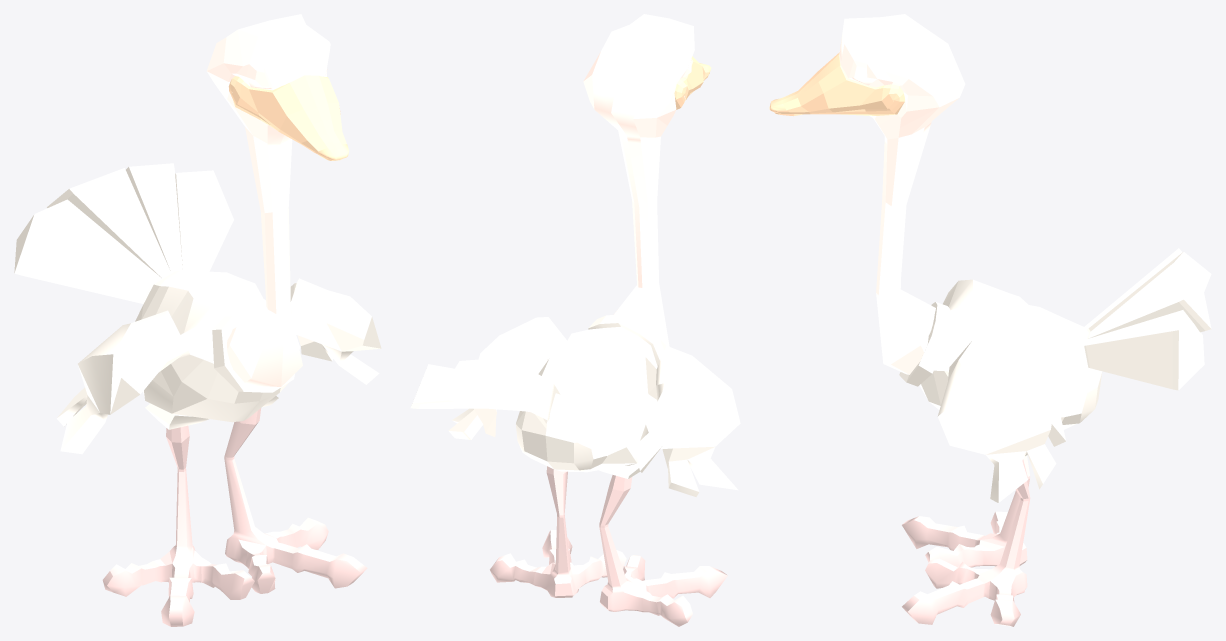
The model's file is asset.glb.
3 views of the same model, side by side, from view 1: azimuth 30°, elevation 25°; view 2: azimuth 150°, elevation 25°; view 3: azimuth 270°, elevation 25° (orthographic). The views are drawn at different scales.
Visible parts, largest first — view 1: avestruz:Patas1; view 2: avestruz:Patas1; view 3: avestruz:Patas1.
Part boxes in pixels (left/top/right/bottom): avestruz:Patas1: left=14, top=14, right=381, bottom=626; avestruz:Patas1: left=410, top=14, right=740, bottom=626; avestruz:Patas1: left=769, top=14, right=1211, bottom=626.
Size of the model in its own units: 0.1995 by 0.3532 by 0.2545.
